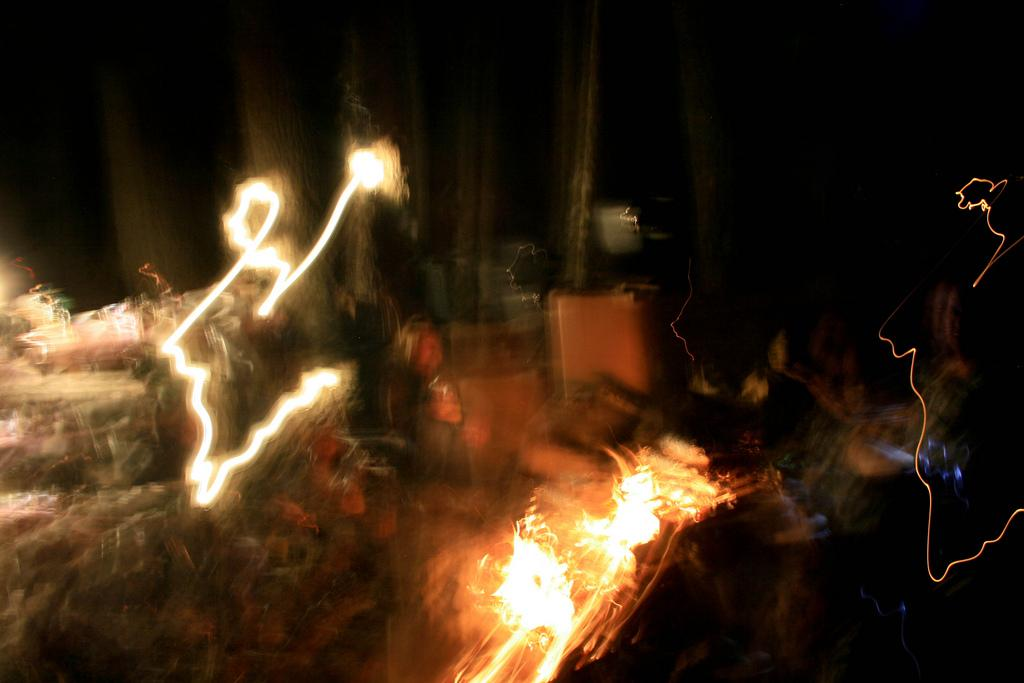fire: (508, 535, 585, 648), (587, 475, 662, 552)
